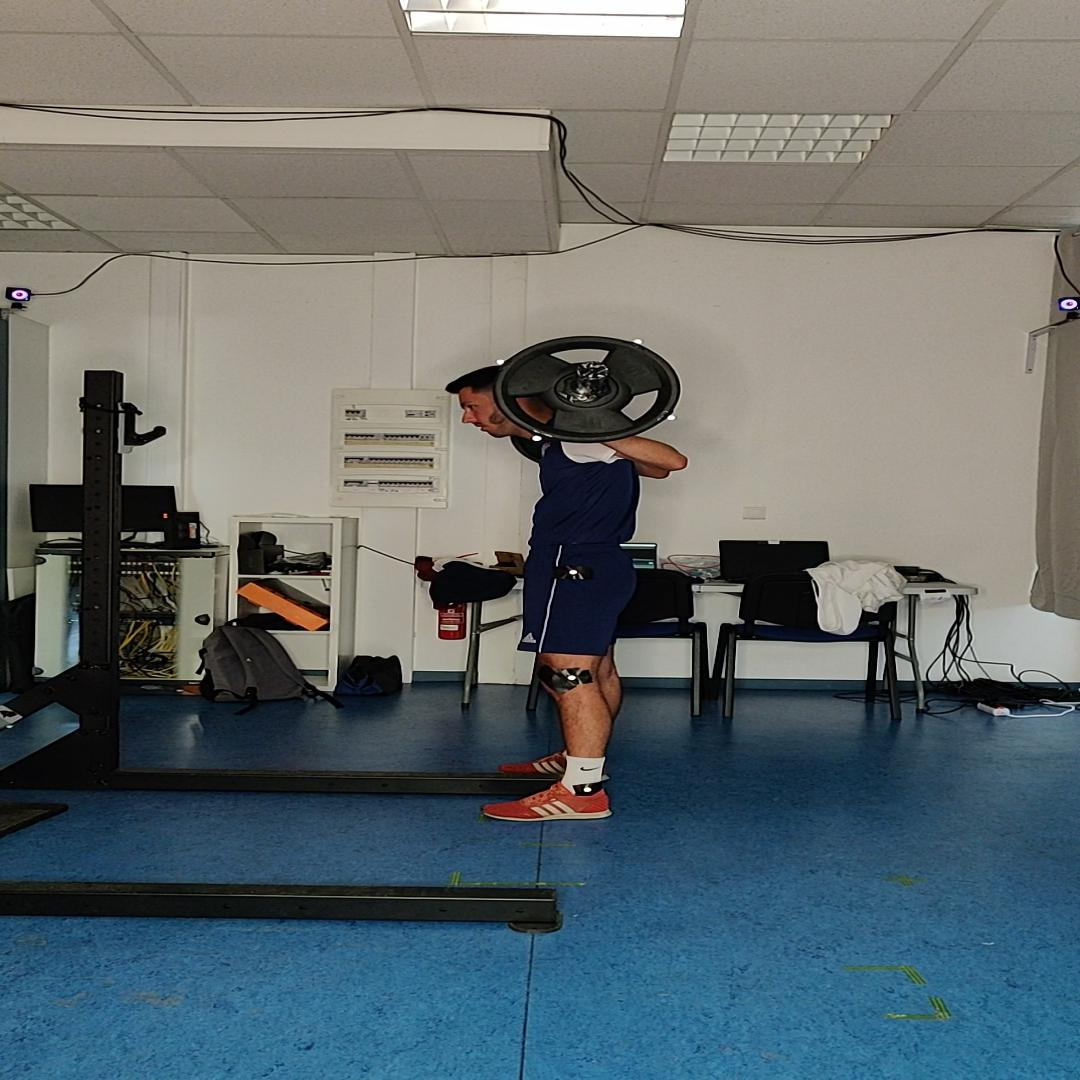Bar: (576, 361, 609, 380)
Barbell: (493, 336, 681, 443)
